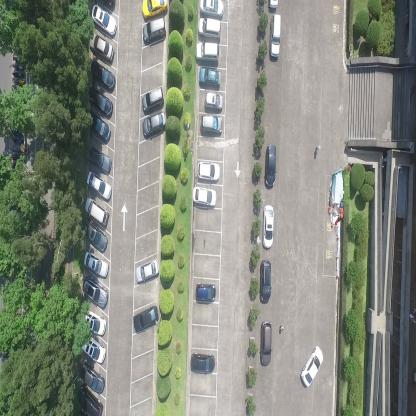car: (300, 341, 324, 388), (82, 216, 108, 254), (80, 330, 107, 366), (81, 274, 109, 308), (80, 358, 105, 395), (132, 302, 160, 334), (90, 32, 115, 66), (92, 2, 117, 36), (82, 249, 110, 279), (88, 62, 116, 92), (81, 305, 107, 337), (77, 382, 102, 415), (84, 196, 109, 229), (88, 85, 113, 118), (86, 111, 112, 142), (86, 170, 112, 200), (85, 144, 111, 173), (142, 14, 165, 46), (142, 108, 165, 140), (142, 84, 164, 116), (135, 257, 159, 285), (261, 203, 275, 250), (194, 40, 219, 63), (192, 185, 218, 207), (141, 0, 168, 21), (269, 13, 281, 59), (264, 144, 276, 190), (260, 320, 272, 366), (190, 353, 216, 374), (194, 281, 217, 304), (197, 160, 221, 182), (259, 260, 271, 303), (200, 112, 222, 135), (198, 17, 221, 38), (199, 0, 223, 20), (198, 67, 221, 87), (204, 90, 224, 111)
